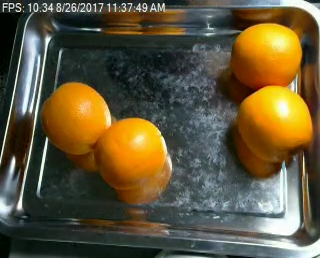Orange: (237, 83, 313, 163), (38, 80, 111, 155), (96, 115, 167, 189), (230, 21, 301, 90)
